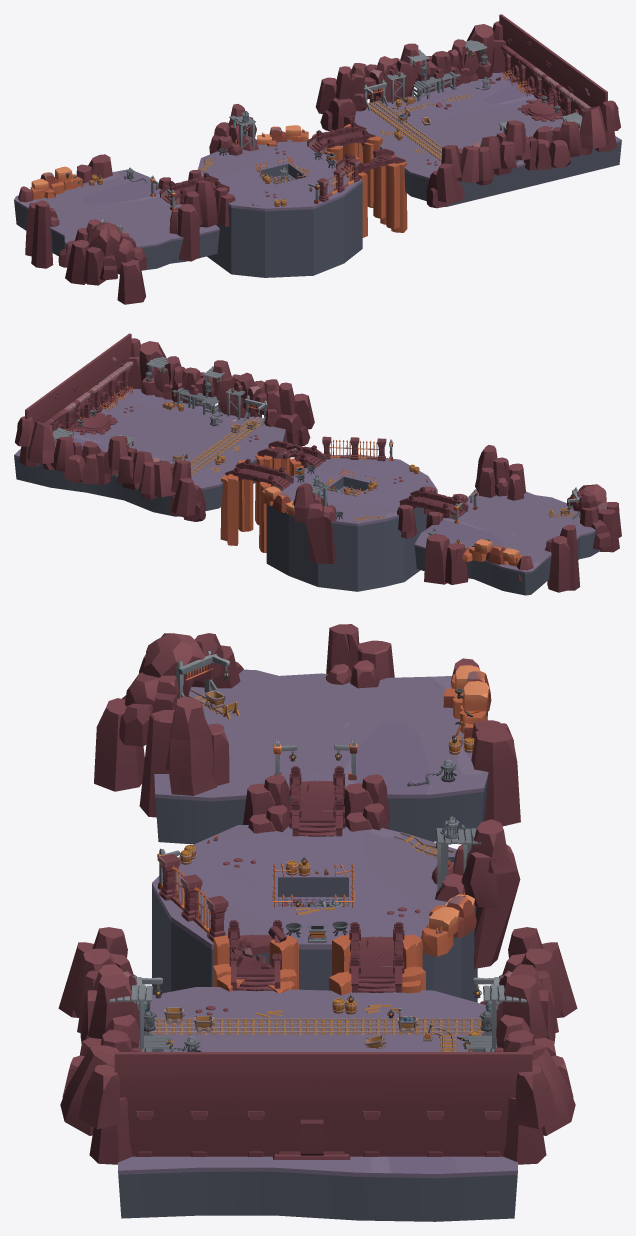
Rendered from Level 2.fbx.
3 views of the same model, one above another, from view 1: azimuth 30°, elevation 25°; view 2: azimuth 150°, elevation 25°; view 3: azimuth 270°, elevation 25° (orthographic). The views are drawn at different scales.
Parts seen in each view (by area): view 1: Cylinder, Circle.072, Plane.010, Plane.027, Circle.100, Cube.027, Cube.047, Circle.127, Circle.121, Bridge2, Cube.055, Bridge1 (+11 smaller); view 2: Circle.072, Cylinder, Plane.010, Plane.027, Cube.027, Circle.100, Cube.047, Circle.137, Bridge1, Circle.129, Bridge2, Circle.102 (+13 smaller); view 3: Cube.027, Plane.010, Plane.027, Cylinder, Circle.072, Circle.100, Circle.117, Circle.102, Bridge1, Bridge2, Cube.026, Circle.137 (+12 smaller).
Part boxes in pixels (<box>): Cylinder: <box>198,139,362,277</box>; Circle.072: <box>315,21,620,208</box>; Plane.010: <box>354,72,621,206</box>; Plane.027: <box>14,169,219,270</box>; Circle.100: <box>58,219,146,304</box>; Cube.027: <box>499,14,607,124</box>; Cube.047: <box>386,40,582,161</box>; Circle.127: <box>31,200,53,268</box>; Circle.121: <box>177,204,200,261</box>; Bridge2: <box>307,122,375,154</box>; Cube.055: <box>386,163,399,229</box>; Bridge1: <box>159,172,229,205</box>; Circle.072: <box>15,338,314,521</box>; Cylinder: <box>266,454,437,591</box>; Plane.010: <box>14,389,285,516</box>; Plane.027: <box>414,490,600,595</box>; Cube.027: <box>25,333,131,440</box>; Circle.100: <box>548,484,621,552</box>; Cube.047: <box>53,357,245,476</box>; Circle.137: <box>306,503,336,563</box>; Bridge1: <box>399,486,468,519</box>; Circle.129: <box>547,536,570,592</box>; Bridge2: <box>224,458,293,491</box>; Circle.102: <box>424,534,449,584</box>; Cube.027: <box>114,1052,532,1156</box>; Plane.010: <box>118,987,517,1221</box>; Plane.027: <box>154,669,488,844</box>; Cylinder: <box>152,825,477,1002</box>; Circle.072: <box>58,927,577,1164</box>; Circle.100: <box>94,633,243,791</box>; Circle.117: <box>169,696,216,795</box>; Circle.102: <box>471,725,520,826</box>; Bridge1: <box>289,766,345,836</box>; Bridge2: <box>349,922,404,992</box>; Cube.026: <box>228,920,286,991</box>; Circle.137: <box>474,844,520,968</box>.
Size of the model in its own units: 30.52 by 6.56 by 12.97.
